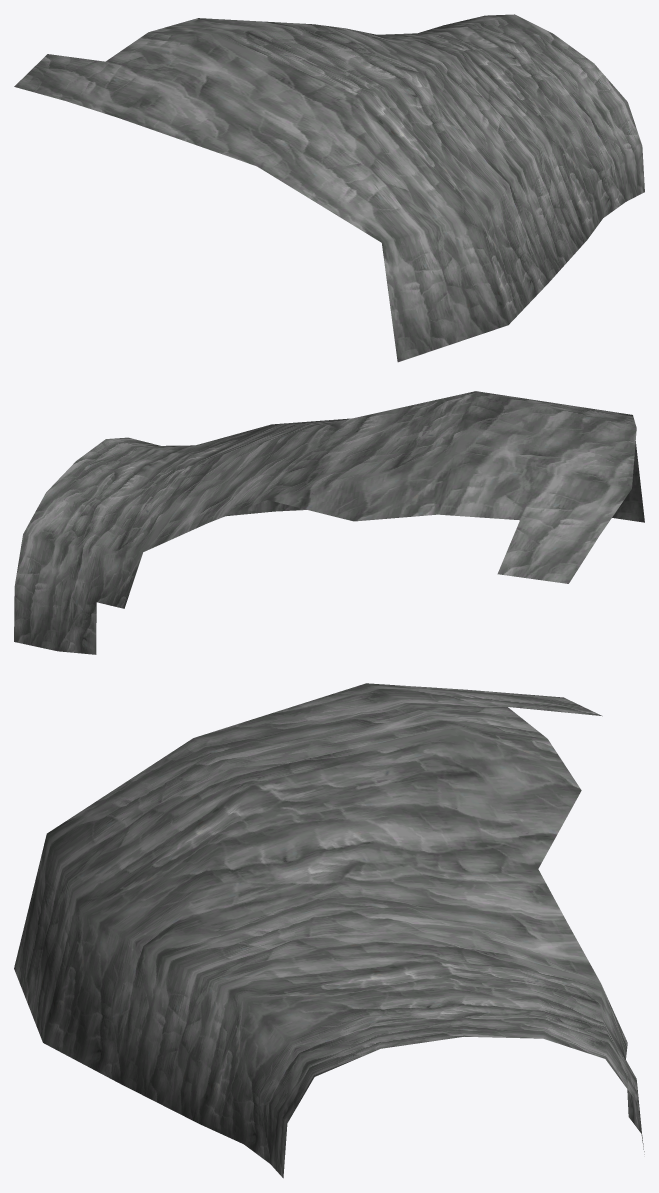
The model's file is SWORDLIGHT20_PS-AREA02_04.fbx.
The picture shows the model from 3 angles, top to bottom: view 1: azimuth 30°, elevation 25°; view 2: azimuth 150°, elevation 25°; view 3: azimuth 270°, elevation 25°; orthographic projection. The views are drawn at different scales.
Visible parts, largest first — view 1: SWORDLIGHT20_PS-AREA02_04; view 2: SWORDLIGHT20_PS-AREA02_04; view 3: SWORDLIGHT20_PS-AREA02_04.
Part boxes in pixels (box(x1,y1,x2,y2)): SWORDLIGHT20_PS-AREA02_04: box(14, 14, 644, 362); SWORDLIGHT20_PS-AREA02_04: box(14, 391, 644, 654); SWORDLIGHT20_PS-AREA02_04: box(14, 683, 644, 1178).
Bounding box in the file's own units: 137062 × 50276 × 120127.
1 material, 1 textured.
